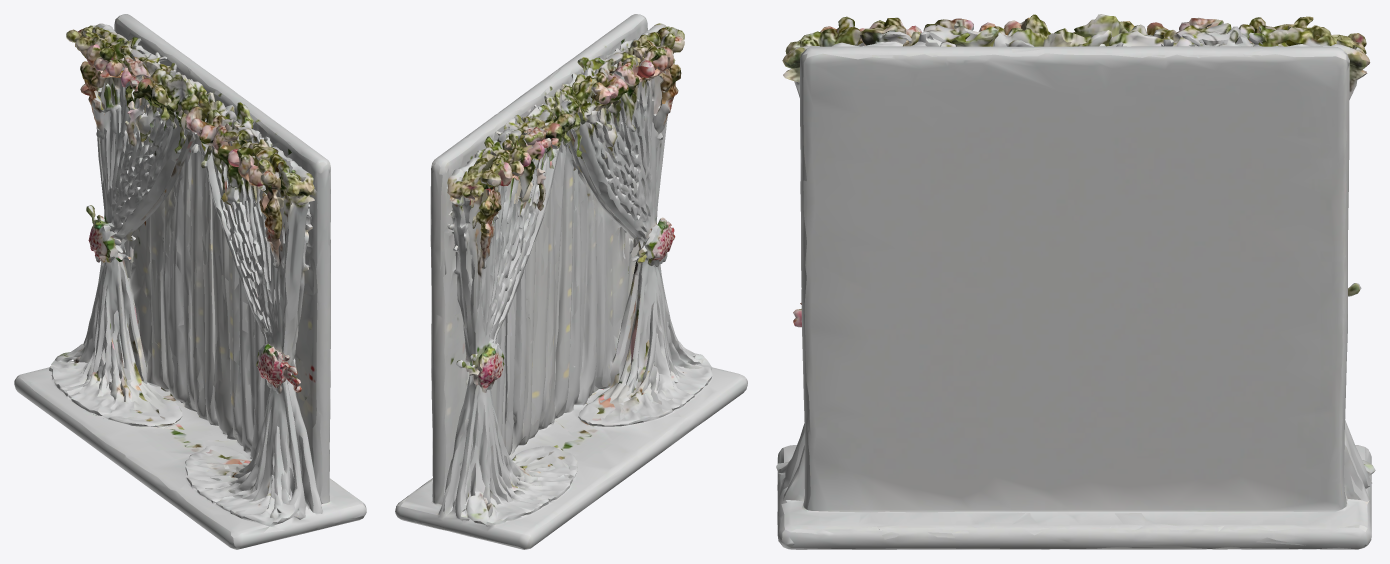
File: stage-compressed.glb
3 renders of one model, left to right at view 1: azimuth 30°, elevation 25°; view 2: azimuth 150°, elevation 25°; view 3: azimuth 270°, elevation 25°, orthographic. The views are drawn at different scales.
Parts seen in each view (by area): view 1: textured_mesh; view 2: textured_mesh; view 3: textured_mesh.
Part boxes in pixels (box(x1,y1,x2,y2)): textured_mesh: box(14, 14, 366, 549); textured_mesh: box(395, 14, 747, 549); textured_mesh: box(776, 14, 1375, 549).
Size of the model in its own units: 0.7036 by 1.83 by 2.
1 material, 1 textured.
